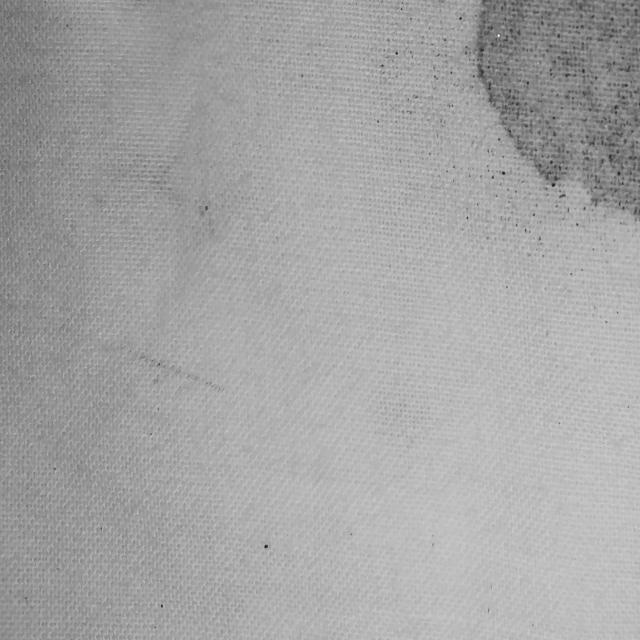Stain: (478, 1, 640, 217)
